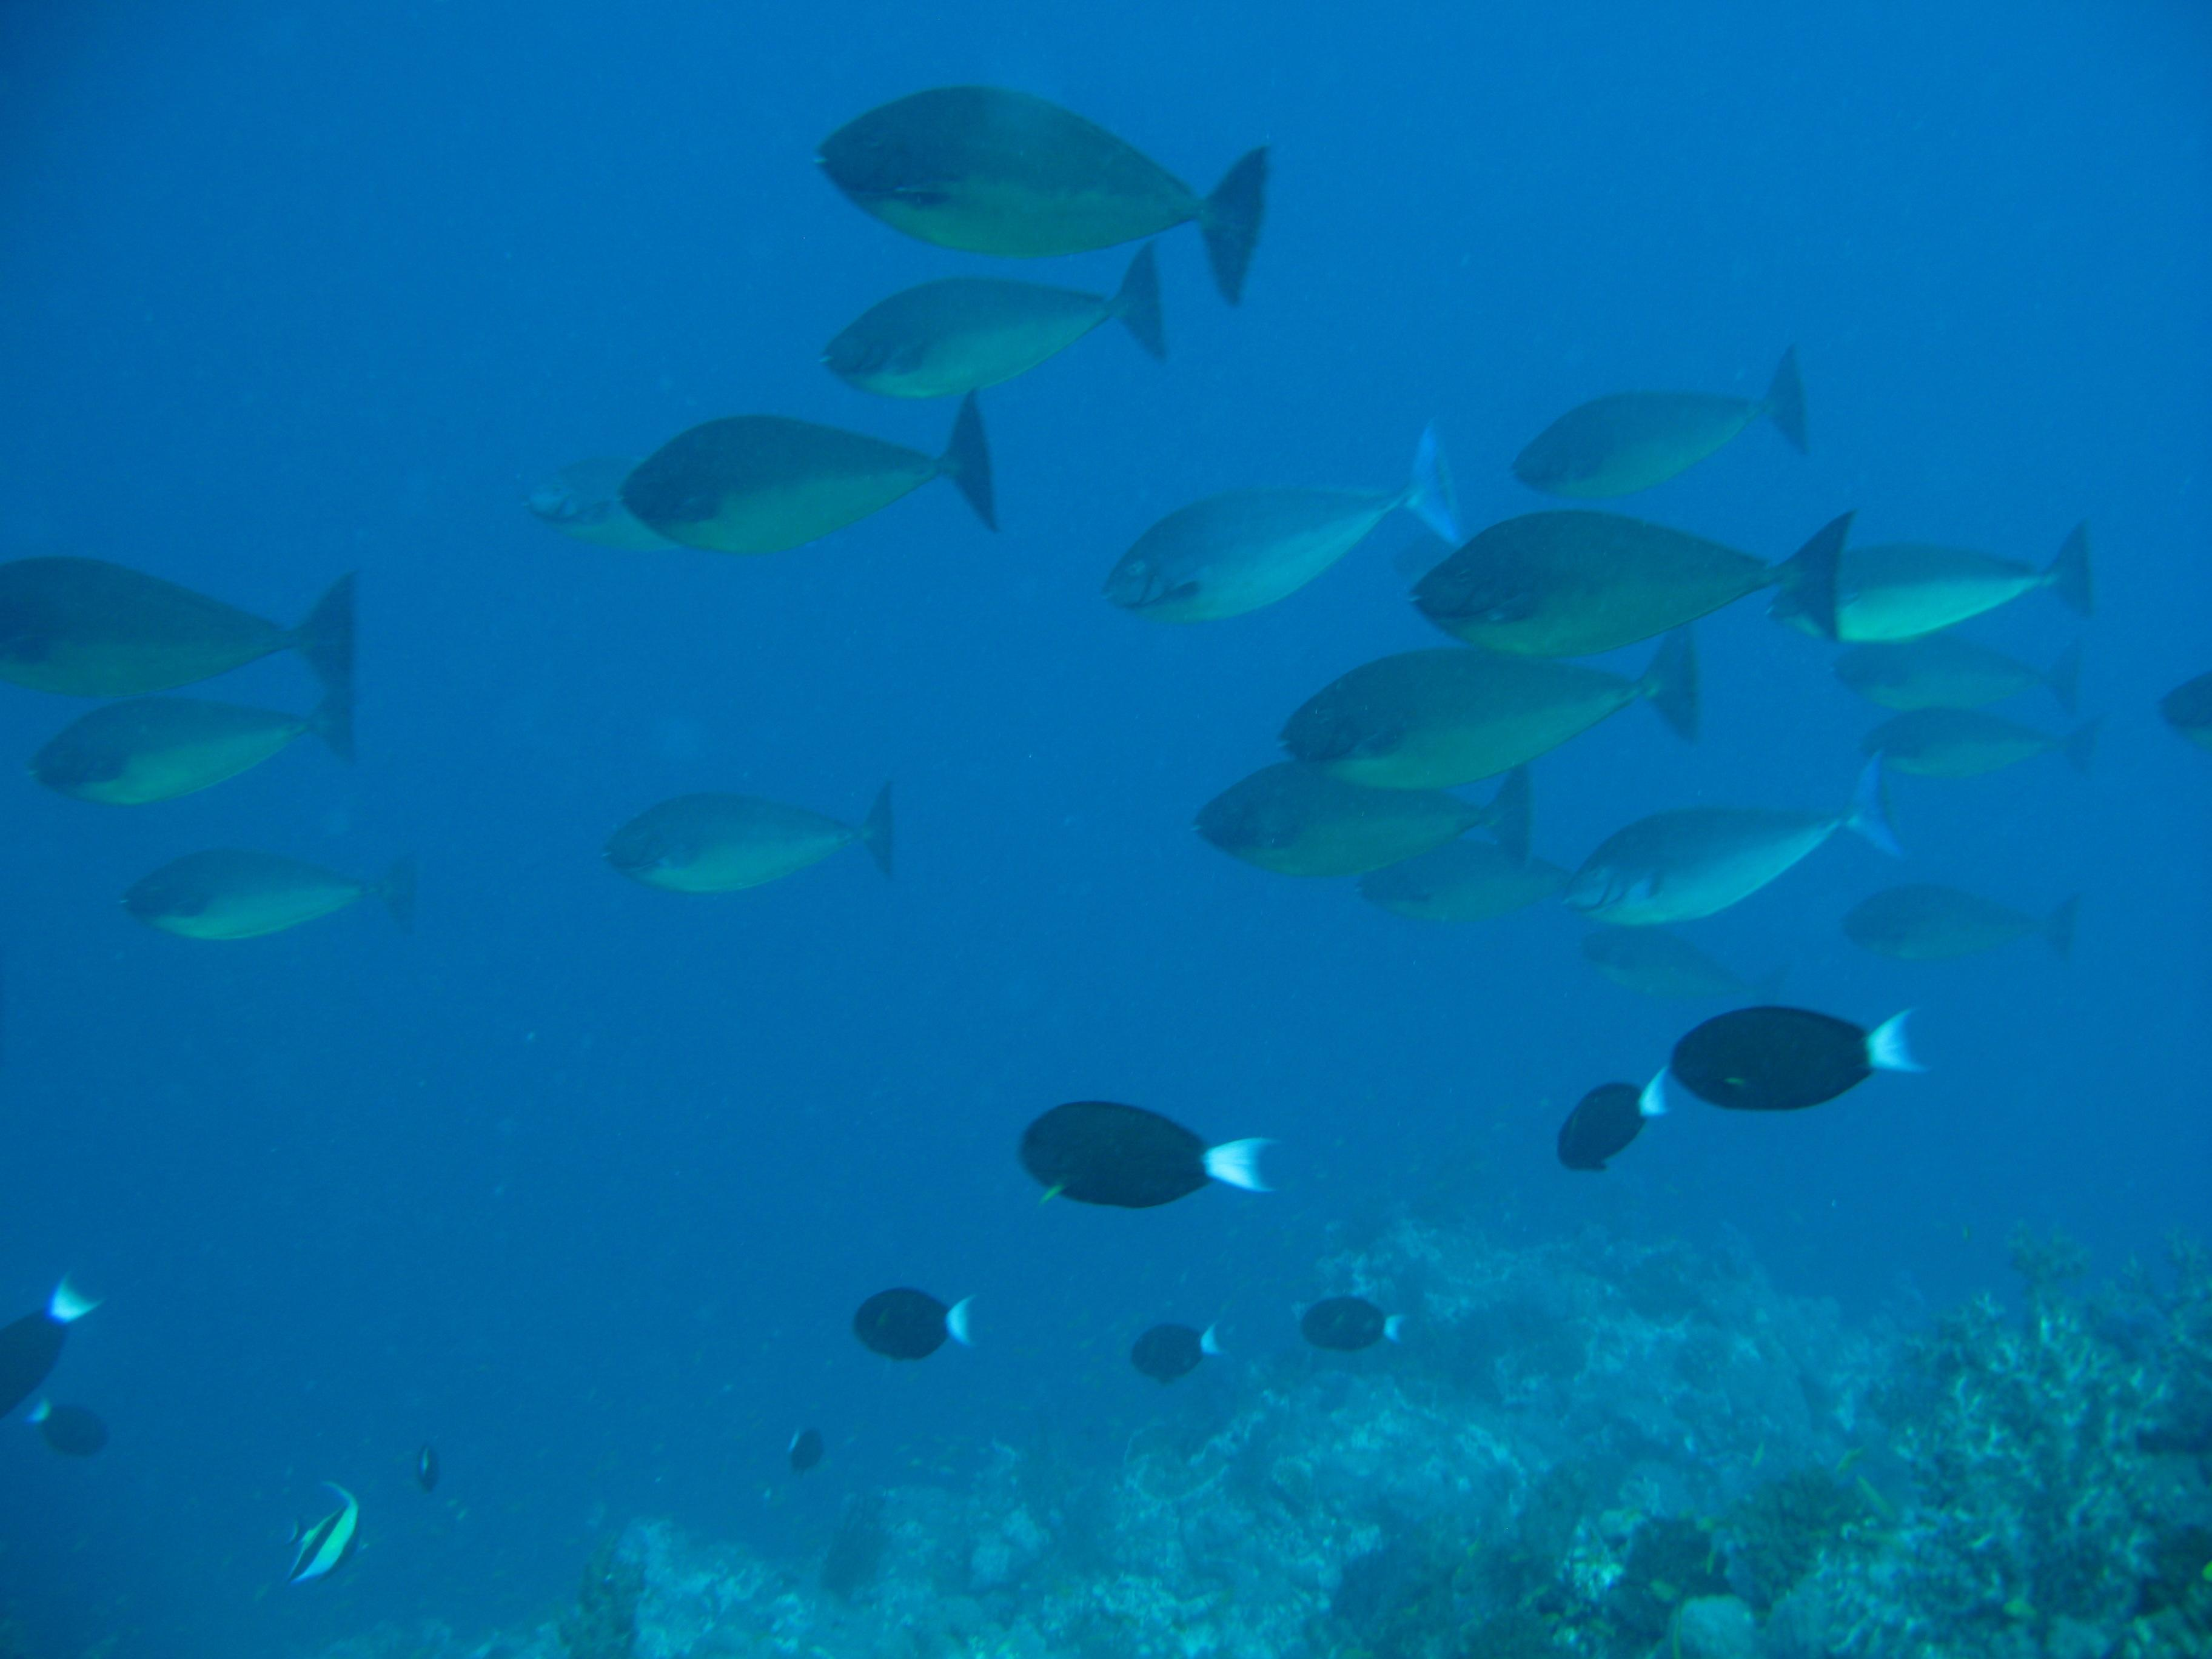Naso hexacanthus: (64, 676, 432, 1091), (509, 554, 902, 875), (371, 214, 691, 568), (970, 938, 1301, 1258), (634, 268, 909, 592), (1015, 240, 1306, 500), (860, 352, 1047, 730), (728, 1349, 934, 1659), (533, 890, 735, 1202), (340, 769, 566, 1046), (1120, 1314, 1282, 1659), (925, 1352, 1083, 1659)
